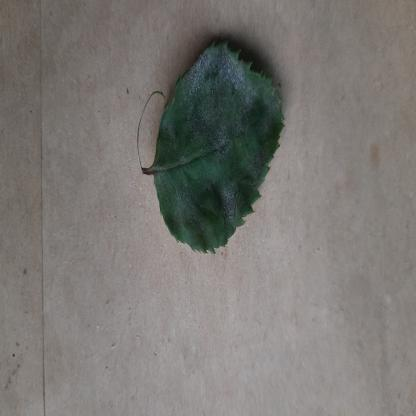powdery-mildew: (152, 40, 287, 258)
